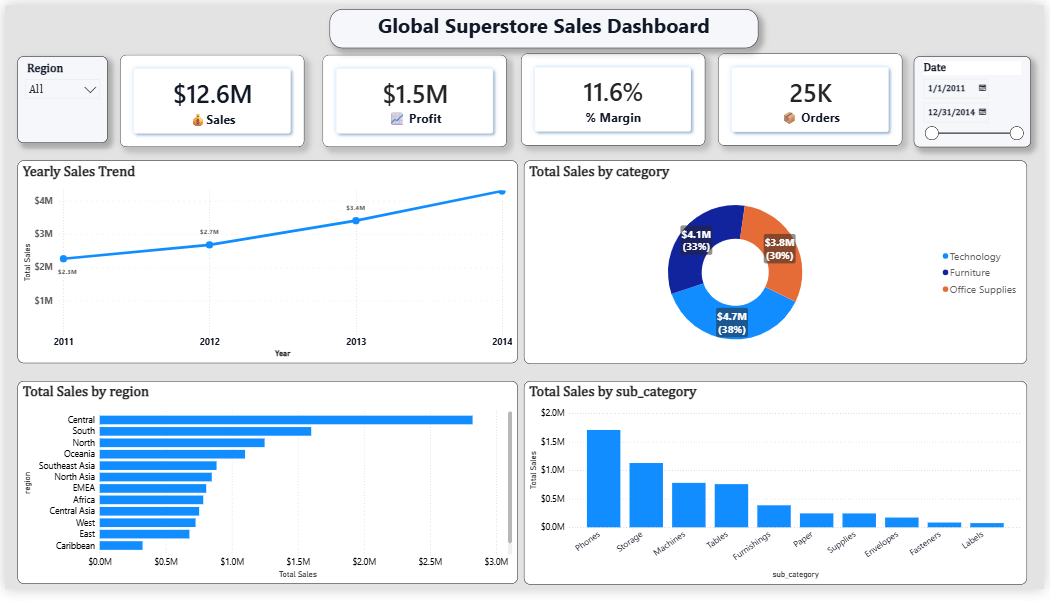

The page's visual inventory and layout, read from the dashboard file:
{"tool":"powerbi","page":{"name":"Page 1","canvas":[1920,1080],"ordinal":0},"visuals":[{"type":"cardVisual","fields":{"Data":["Global_Superstore_Cleaned.Total Sales"]},"box":[212,92.5,340,170],"z":0},{"type":"cardVisual","fields":{"Data":["Global_Superstore_Cleaned.Total Orders"]},"box":[1317,90,340,170],"z":1000},{"type":"cardVisual","fields":{"Data":["Global_Superstore_Cleaned.Total Profit"]},"box":[588,92.5,340,170],"z":2000},{"type":"cardVisual","fields":{"Data":["Global_Superstore_Cleaned.Profit Margin %"]},"box":[953,90,340,170],"z":3000},{"type":"lineChart","title":"Yearly Sales Trend","fields":{"Category":["Global_Superstore_Cleaned.order_date.Variation.Date Hierarchy.Year"],"Y":["Global_Superstore_Cleaned.Total Sales"]},"box":[24,288,925,375],"z":4000},{"type":"textbox","box":[600,7,792,72],"z":5000},{"type":"donutChart","fields":{"Category":["Global_Superstore_Cleaned.category"],"Y":["Global_Superstore_Cleaned.Total Sales"]},"box":[960,288,930,376],"z":6000},{"type":"clusteredBarChart","fields":{"Category":["Global_Superstore_Cleaned.region"],"Y":["Global_Superstore_Cleaned.Total Sales"]},"box":[24,696,925,375],"z":7000},{"type":"clusteredColumnChart","fields":{"Category":["Global_Superstore_Cleaned.sub_category"],"Y":["Global_Superstore_Cleaned.Total Sales"]},"box":[960,696,930,376],"z":8000},{"type":"slicer","fields":{"Values":["Global_Superstore_Cleaned.region"]},"box":[24,96,166.7,160],"z":9000},{"type":"slicer","fields":{"Values":["Global_Superstore_Cleaned.order_date"]},"box":[1680,96,216,168],"z":10000}]}

Visuals, with their boxes in screenshot pixels (x1, y1, x2, y2), scaled from the page's 1920x1080 canvas onto the 1050x601 screenshot:
cardVisual - Global_Superstore_Cleaned.Total Sales: (x1=116, y1=51, x2=302, y2=146)
cardVisual - Global_Superstore_Cleaned.Total Orders: (x1=720, y1=50, x2=906, y2=145)
cardVisual - Global_Superstore_Cleaned.Total Profit: (x1=322, y1=51, x2=508, y2=146)
cardVisual - Global_Superstore_Cleaned.Profit Margin %: (x1=521, y1=50, x2=707, y2=145)
"Yearly Sales Trend" lineChart: (x1=13, y1=160, x2=519, y2=369)
textbox: (x1=328, y1=4, x2=761, y2=44)
donutChart - Global_Superstore_Cleaned.category x Global_Superstore_Cleaned.Total Sales: (x1=525, y1=160, x2=1034, y2=370)
clusteredBarChart - Global_Superstore_Cleaned.region x Global_Superstore_Cleaned.Total Sales: (x1=13, y1=387, x2=519, y2=596)
clusteredColumnChart - Global_Superstore_Cleaned.sub_category x Global_Superstore_Cleaned.Total Sales: (x1=525, y1=387, x2=1034, y2=597)
slicer - Global_Superstore_Cleaned.region: (x1=13, y1=53, x2=104, y2=142)
slicer - Global_Superstore_Cleaned.order_date: (x1=919, y1=53, x2=1037, y2=147)
